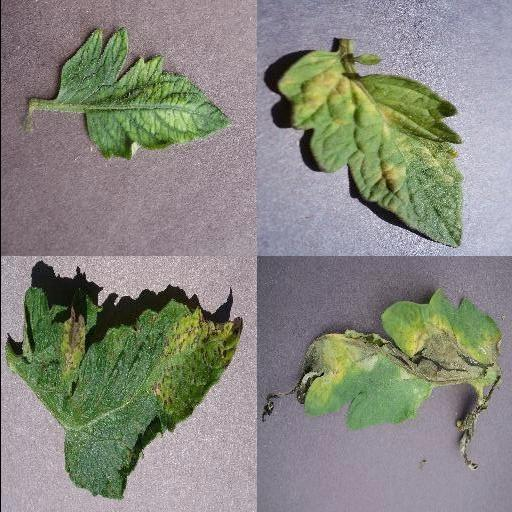Late Blight: (256, 286, 504, 468)
Leaf Mold: (277, 50, 463, 248)
Mosaic Virus: (53, 26, 235, 162)
Septoria: (21, 290, 243, 500)
